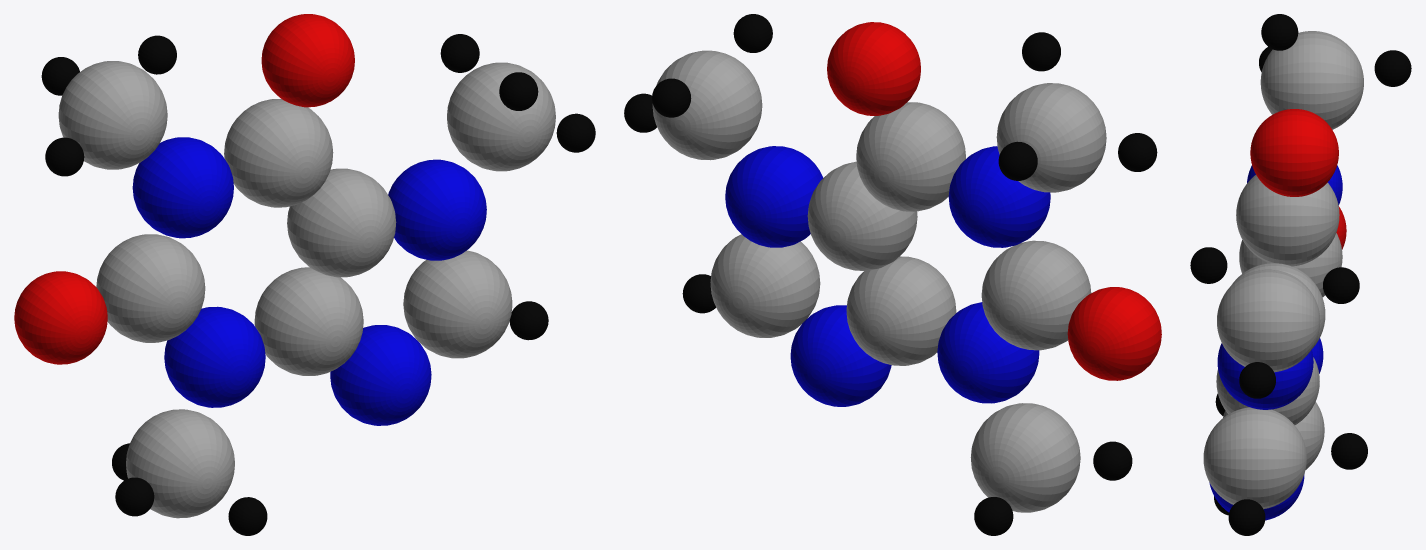
File: Theobromine.glb
The picture shows the model from 3 angles, left to right: view 1: azimuth 30°, elevation 25°; view 2: azimuth 150°, elevation 25°; view 3: azimuth 270°, elevation 25°; orthographic projection. The views are drawn at different scales.
Parts seen in each view (by area): view 1: world; view 2: world; view 3: world.
Part boxes in pixels (x1,y1,x2,y2): world: (14, 14, 595, 535); world: (624, 14, 1161, 535); world: (1190, 14, 1411, 535).
Bounding box in the file's own units: 8.13 × 6.99 × 2.99.
